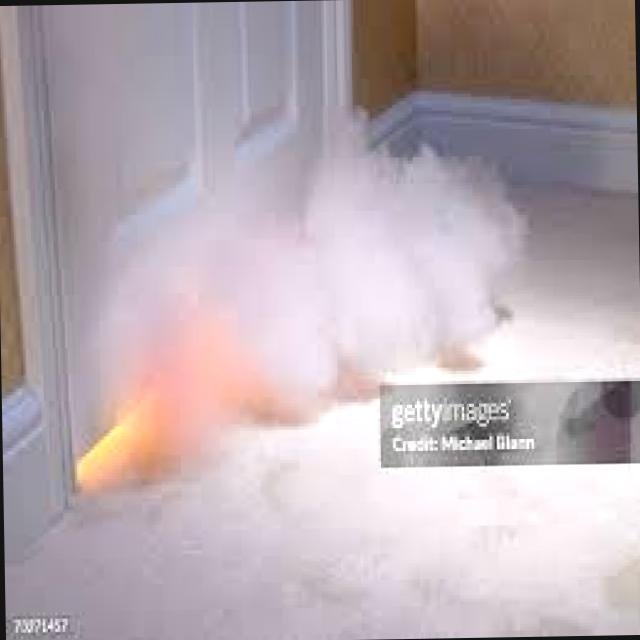fire: (58, 387, 223, 506)
smoke: (118, 119, 532, 376)
